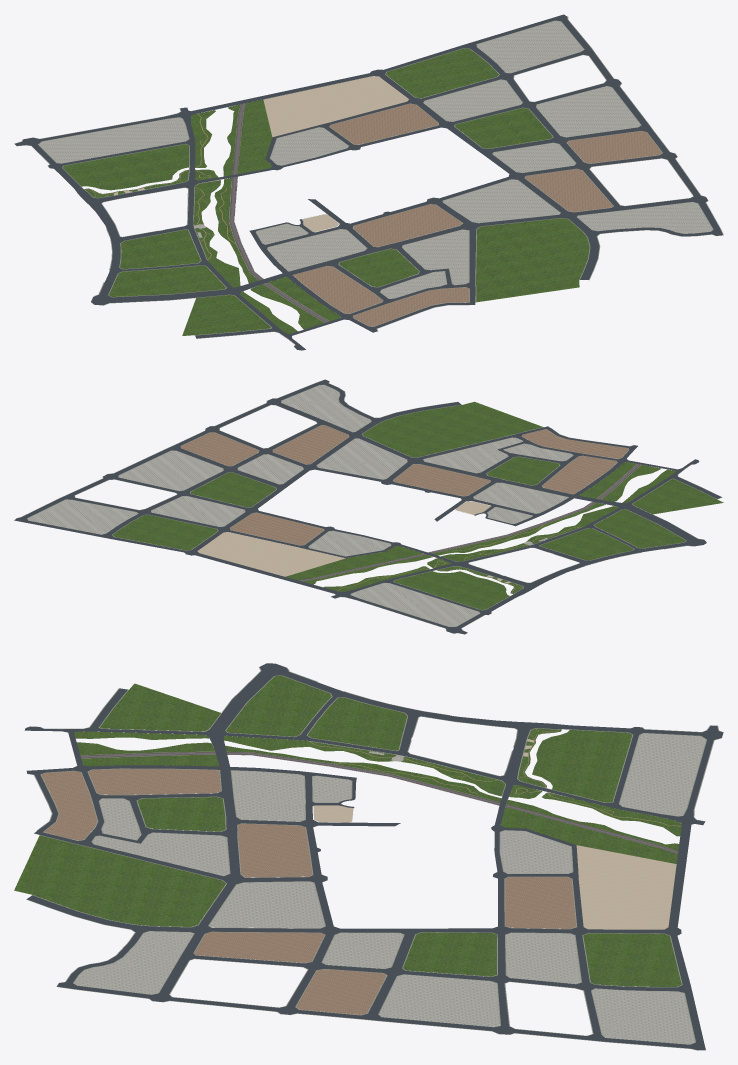
The picture shows the model from 3 angles, top to bottom: view 1: azimuth 30°, elevation 25°; view 2: azimuth 150°, elevation 25°; view 3: azimuth 270°, elevation 25°; orthographic projection. The views are drawn at different scales.
Visible parts, largest first — view 1: dx-3; view 2: dx-3; view 3: dx-3.
Boxes of the visible parts, <box> form: dx-3: <box>14,14,723,350</box>; dx-3: <box>14,379,723,634</box>; dx-3: <box>14,663,723,1050</box>.
Size of the model in its own units: 2951 by 1.3 by 2286.
9 materials, 9 textured.
